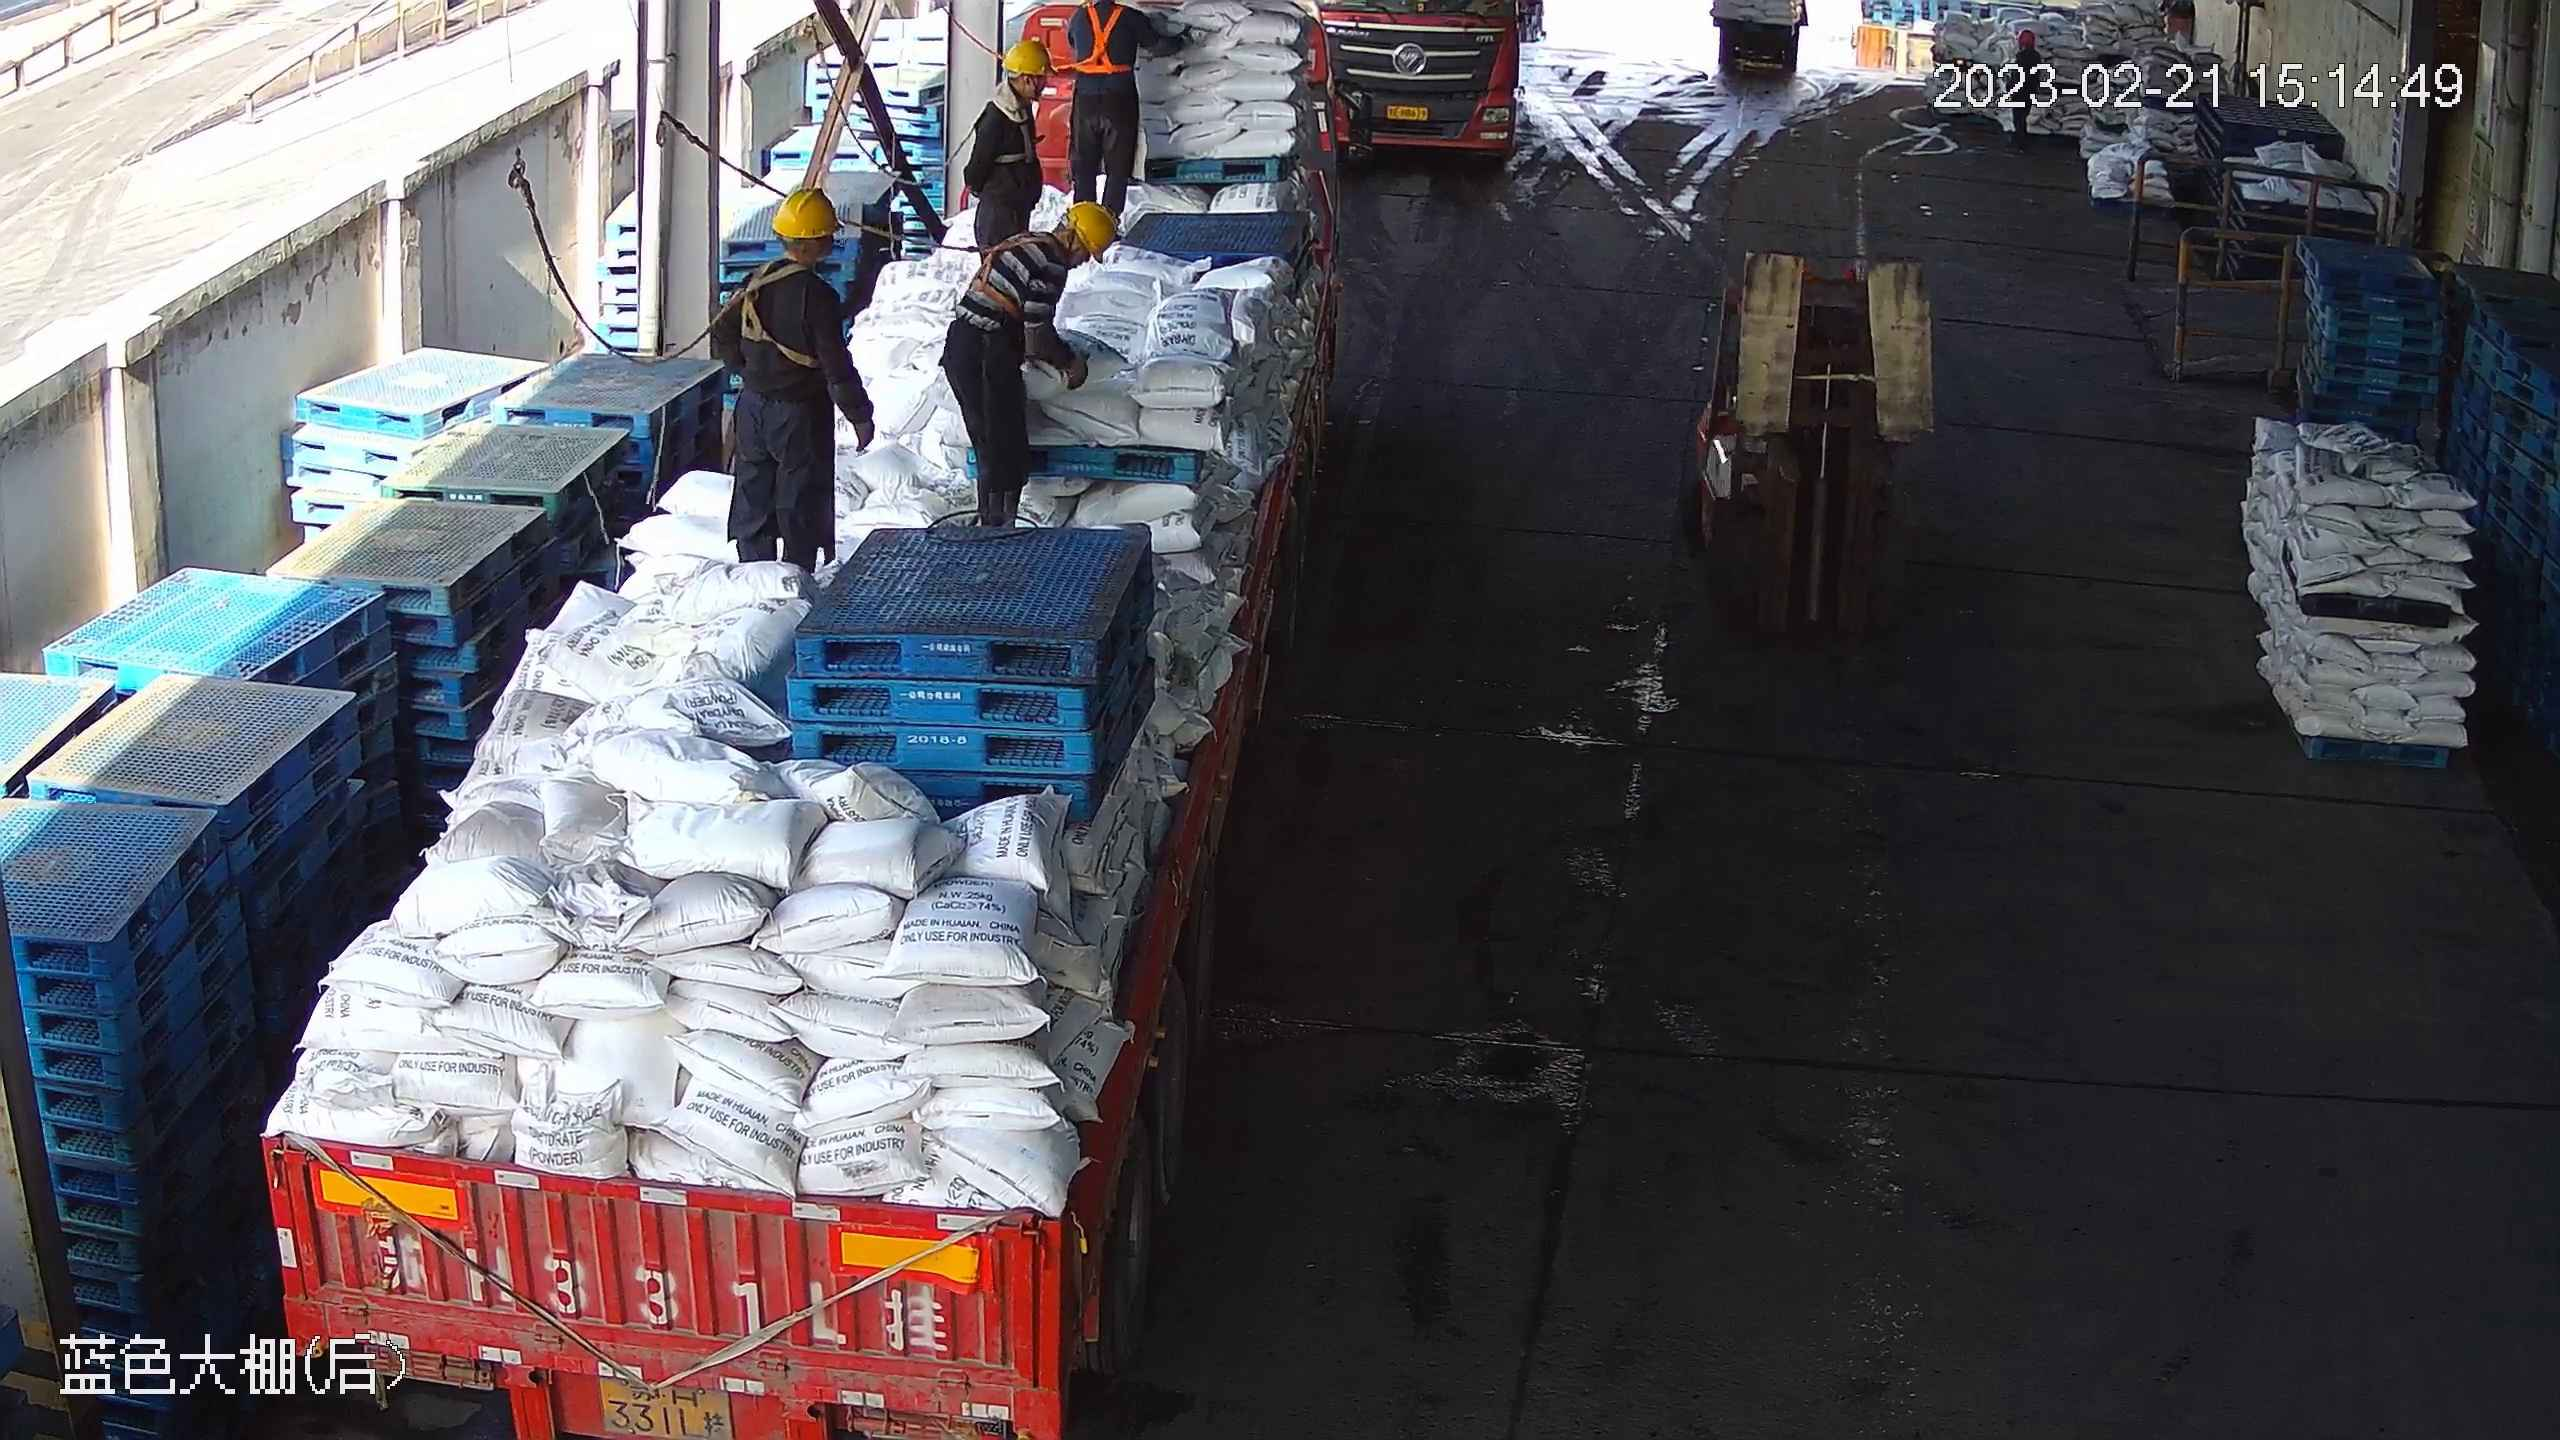belt: (721, 257, 818, 368), (963, 235, 1065, 327), (1067, 2, 1131, 77), (992, 116, 1045, 166)
head: (734, 185, 845, 318), (989, 202, 1120, 279), (982, 39, 1058, 135)
helmet: (772, 187, 846, 238), (1066, 200, 1116, 263), (1003, 39, 1057, 77)
people: (711, 187, 875, 575), (943, 201, 1118, 522), (1067, 1, 1195, 213), (962, 38, 1058, 260)
truck: (260, 1, 1374, 1440), (1315, 1, 1517, 153)
